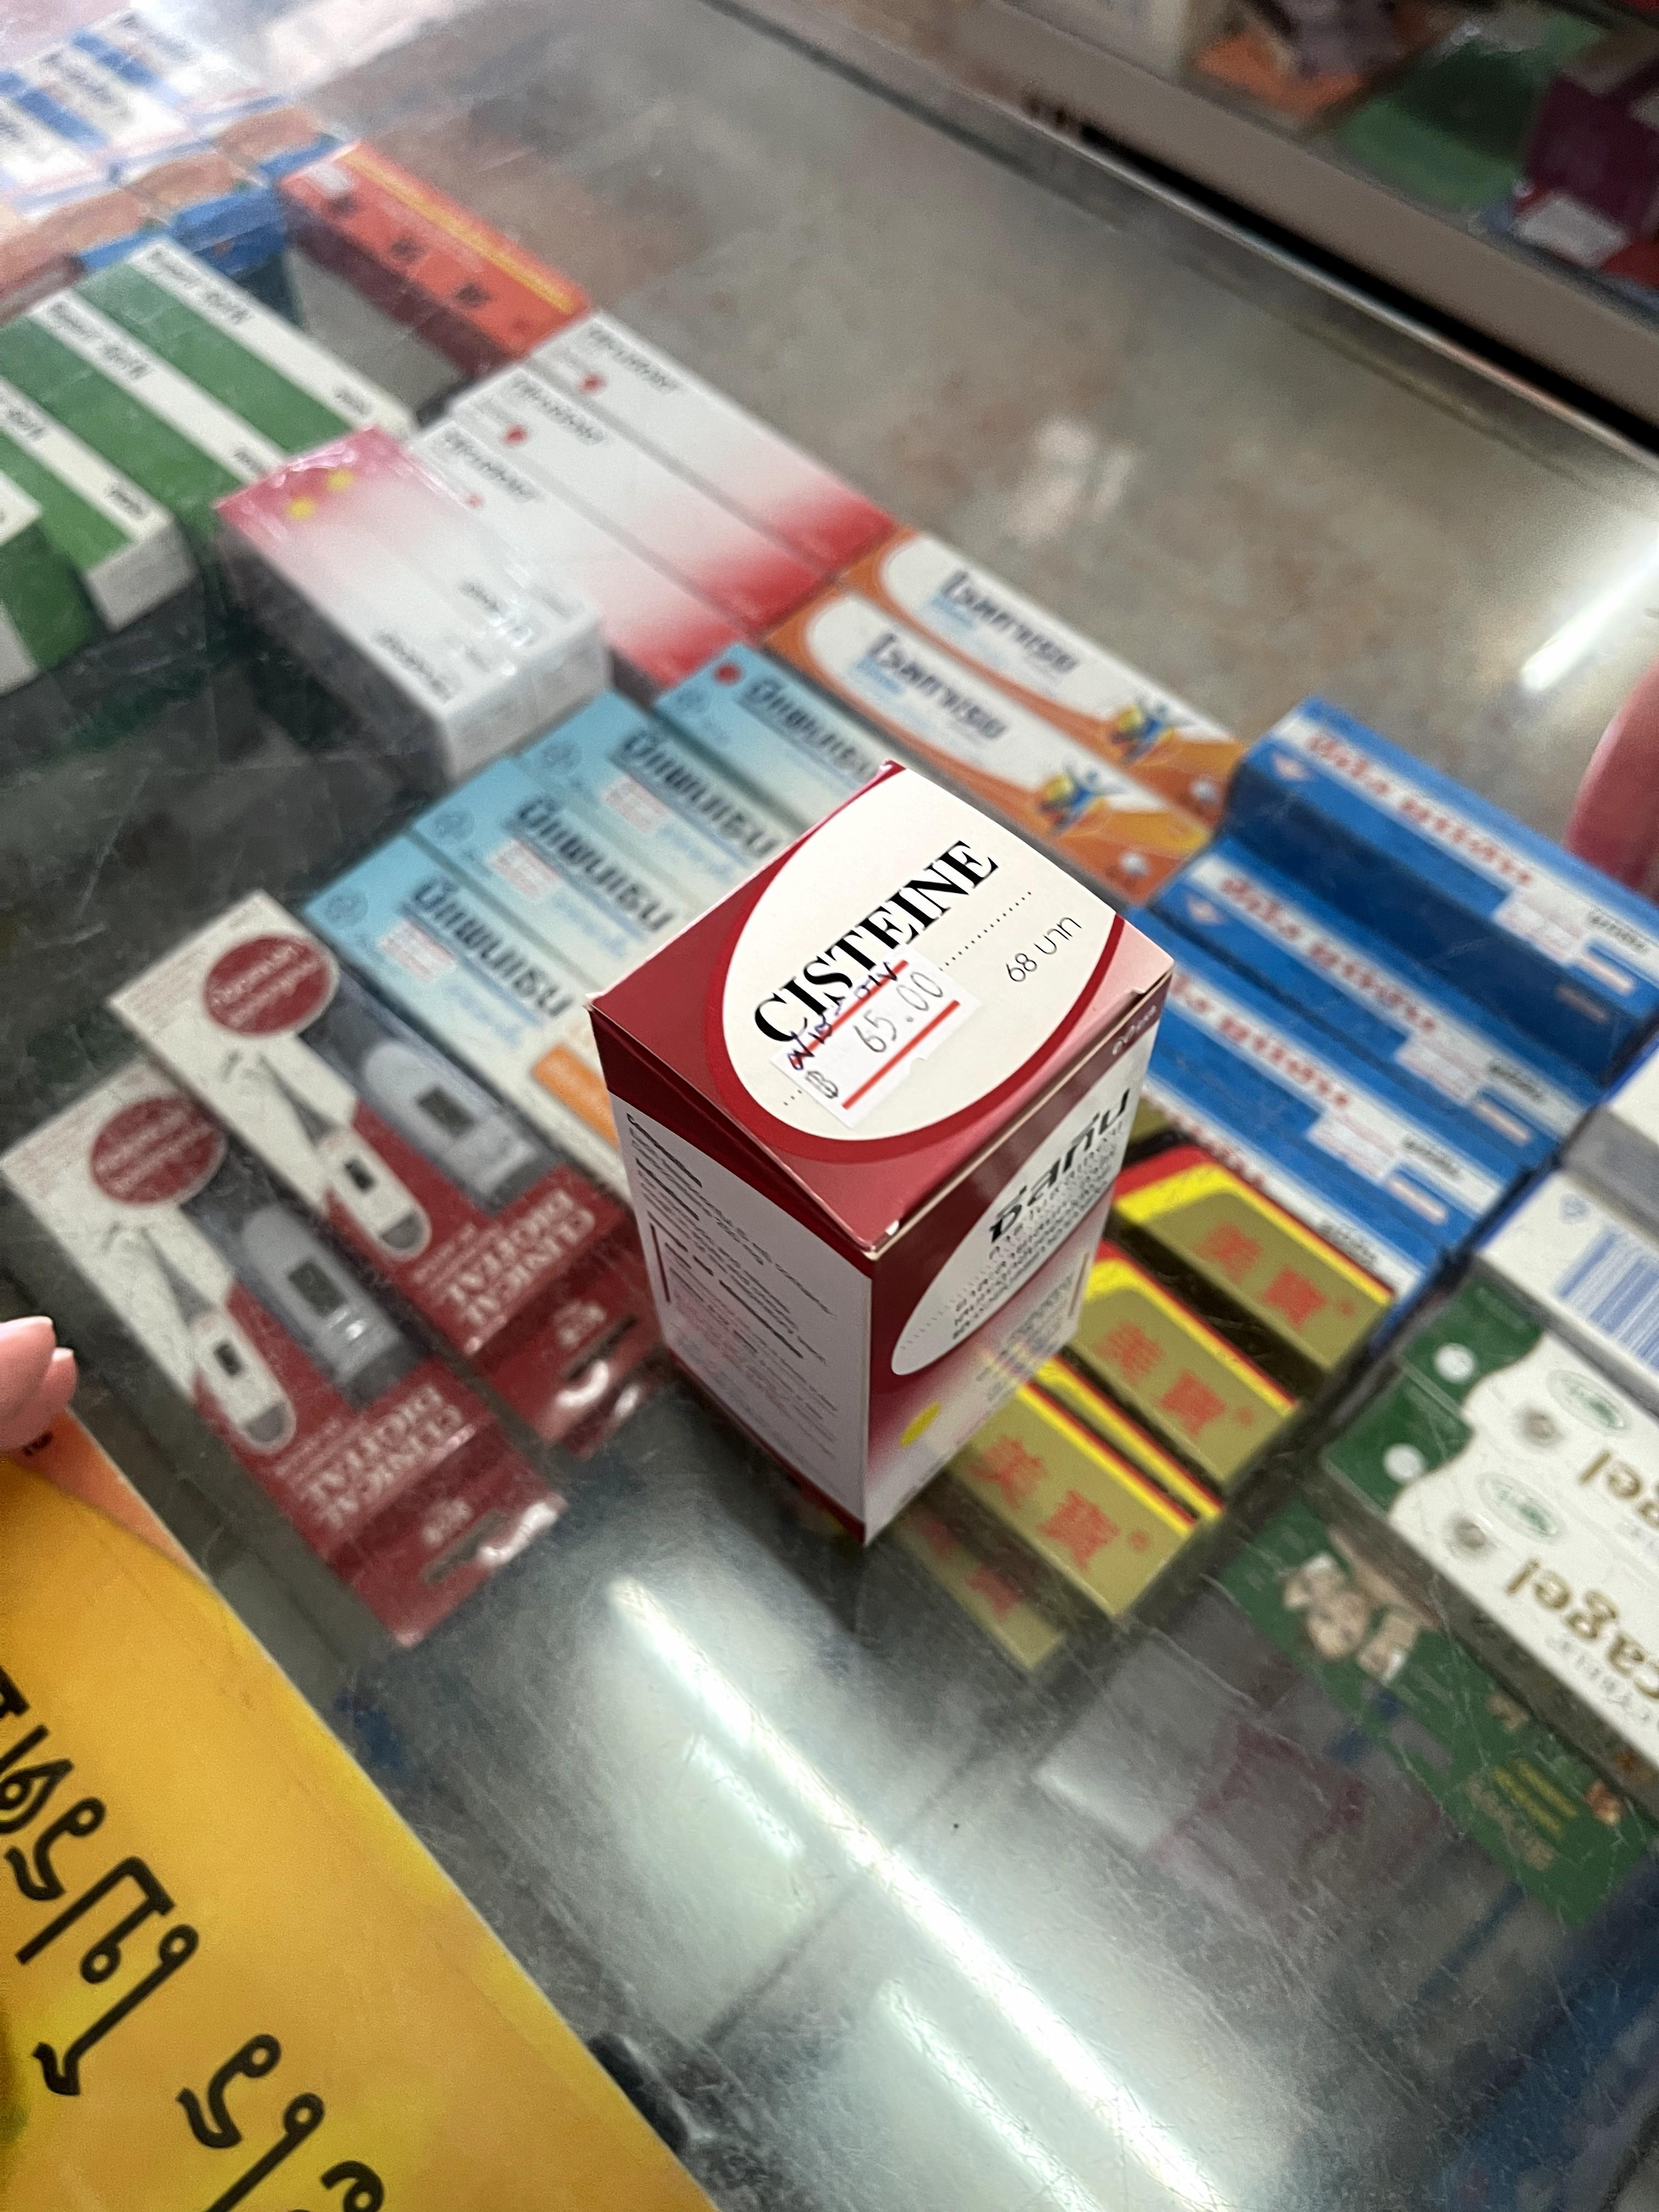Cisteine: (598, 772, 1162, 1545)
